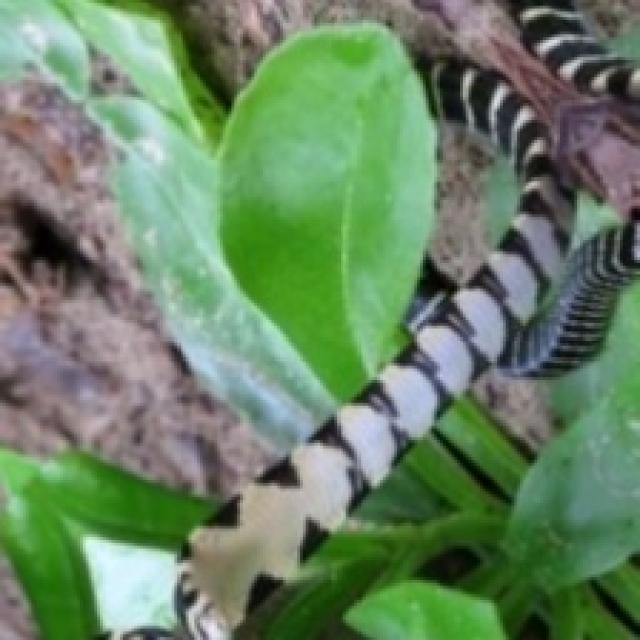king cobra: (177, 57, 637, 637)
